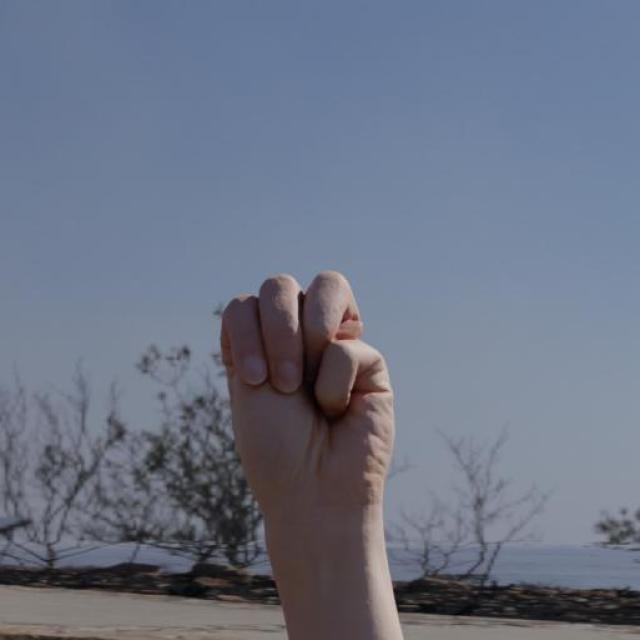M: (211, 264, 398, 520)
